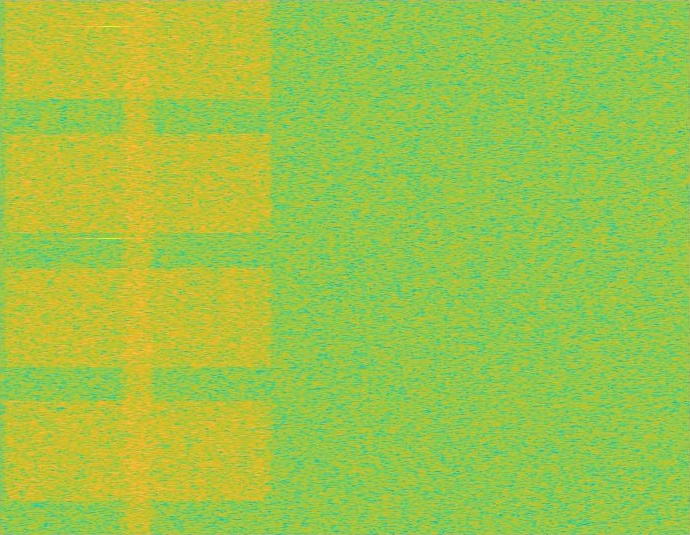5G: (0, 0, 276, 534)
DSSS: (119, 0, 157, 534)
Radar: (102, 0, 116, 534)
